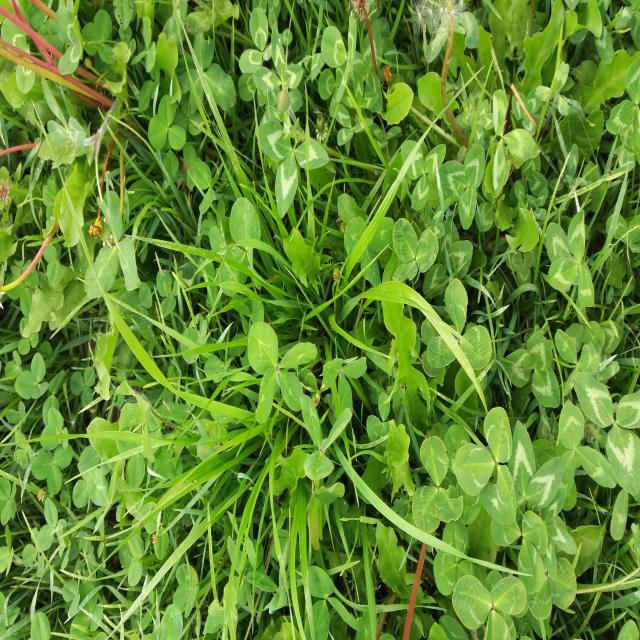Four Leaf Clover: (247, 322, 317, 424)
